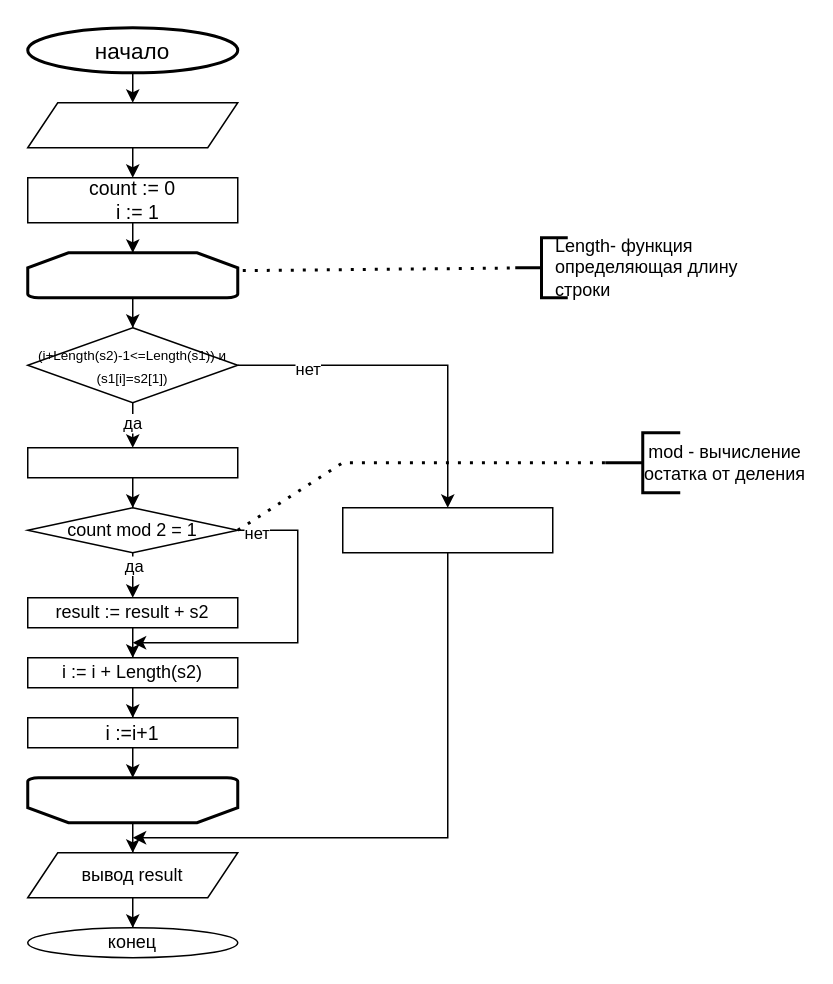
The diagram is 833 pixels wide and 984 high, and some of its shapes have lost their labels. Here are the shapes that lost their labels. From the top down, the centre of each, then its label:
At point (132, 124): "ввод s1 ввод s2".
At point (132, 274): "проход по строке i >= Length(s1)".
At point (132, 462): "count := count + 1".
At point (447, 529): "r esult := result + s1[i] i := i + 1".
At point (132, 800): "проход по строке".
